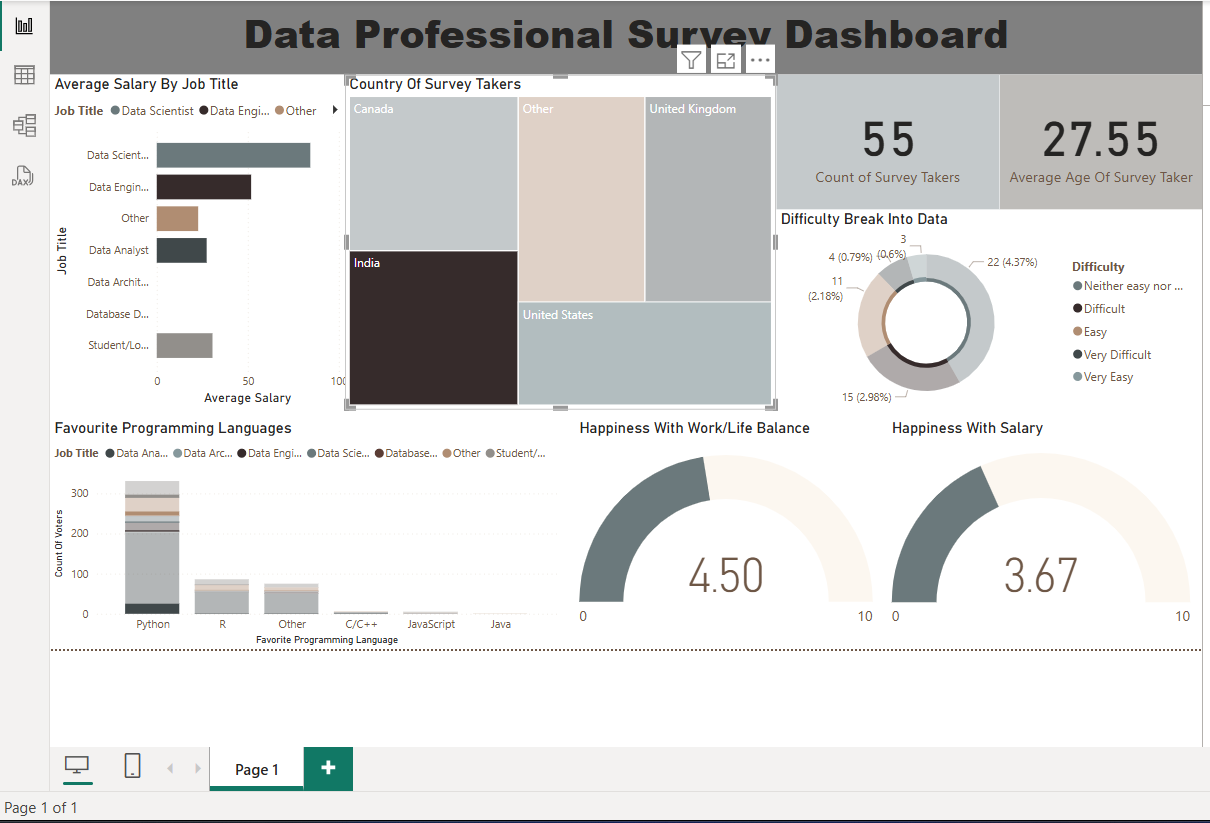

The page's visual inventory and layout, read from the dashboard file:
{"tool":"powerbi","page":{"name":"Page 1","canvas":[1280,720],"ordinal":0},"visuals":[{"type":"textbox","box":[0,0,1280.3,81.9],"z":0},{"type":"card","fields":{"Values":["CountNonNull(Data Professional Survey.Unique ID)"]},"box":[806.9,82.3,248.4,149.6],"z":1000},{"type":"card","fields":{"Values":["Avg(Data Professional Survey.Q10 - Current Age)"]},"box":[1055.2,82.3,225,149.6],"z":2000},{"type":"barChart","title":"Average Salary By Job Title","fields":{"Category":["Data Professional Survey.Q1 - Which Title Best Fits your Current Role?.1"],"Y":["Avg(Data Professional Survey.Average Salary)"],"Series":["Data Professional Survey.Q1 - Which Title Best Fits your Current Role?.1"]},"box":[0,81.9,336,372.1],"z":3000},{"type":"columnChart","title":"Favourite Programming Languages","fields":{"Category":["Data Professional Survey.Q5 - Favorite Programming Language.1"],"Y":["CountNonNull(Data Professional Survey.Unique ID)"],"Series":["Data Professional Survey.Q1 - Which Title Best Fits your Current Role?.1"]},"box":[0,463.8,567.9,256.9],"z":4000},{"type":"treemap","title":"Country Of Survey Takers","fields":{"Group":["Data Professional Survey.Q11 - Which Country do you live in?.1"],"Values":["Count(Data Professional Survey.Q11 - Which Country do you live in?.1)"]},"box":[327.7,81.9,479.1,372.1],"z":5000},{"type":"gauge","title":"Happiness With Work/Life Balance","fields":{"Y":["Avg(Data Professional Survey.Q6 - How Happy are you in your Current Position with the following? (Work/Life Balance))"],"MinValue":["Min(Data Professional Survey.Q6 - How Happy are you in your Current Position with the following? (Work/Life Balance))"],"MaxValue":["Max(Data Professional Survey.Q6 - How Happy are you in your Current Position with the following? (Work/Life Balance))"]},"box":[583.2,463.8,336,256.9],"z":6000},{"type":"gauge","title":"Happiness With Salary","fields":{"Y":["Avg(Data Professional Survey.Q6 - How Happy are you in your Current Position with the following? (Salary))"],"MinValue":["Min(Data Professional Survey.Q6 - How Happy are you in your Current Position with the following? (Salary))"],"MaxValue":["Max(Data Professional Survey.Q6 - How Happy are you in your Current Position with the following? (Salary))"]},"box":[930.4,463.8,341.6,255.5],"z":7000},{"type":"donutChart","title":"Difficulty Break Into Data","fields":{"Category":["Data Professional Survey.Q7 - How difficult was it for you to break into Data?"],"Y":["CountNonNull(Data Professional Survey.Q7 - How difficult was it for you to break into Data?)"]},"box":[806.8,231.9,473.5,231.9],"z":8000}]}

Visuals, with their boxes on the page's 1280x720 design canvas (x1, y1, x2, y2). These are canvas units, not pixel positions in the 1210x823 screenshot, which may show the page scaled, cropped or inside an application window:
textbox: select_region(0, 0, 1280, 82)
card - CountNonNull(Data Professional Survey.Unique ID): select_region(807, 82, 1055, 232)
card - Avg(Data Professional Survey.Q10 - Current Age): select_region(1055, 82, 1280, 232)
"Average Salary By Job Title" barChart: select_region(0, 82, 336, 454)
"Favourite Programming Languages" columnChart: select_region(0, 464, 568, 721)
"Country Of Survey Takers" treemap: select_region(328, 82, 807, 454)
"Happiness With Work/Life Balance" gauge: select_region(583, 464, 919, 721)
"Happiness With Salary" gauge: select_region(930, 464, 1272, 719)
"Difficulty Break Into Data" donutChart: select_region(807, 232, 1280, 464)
